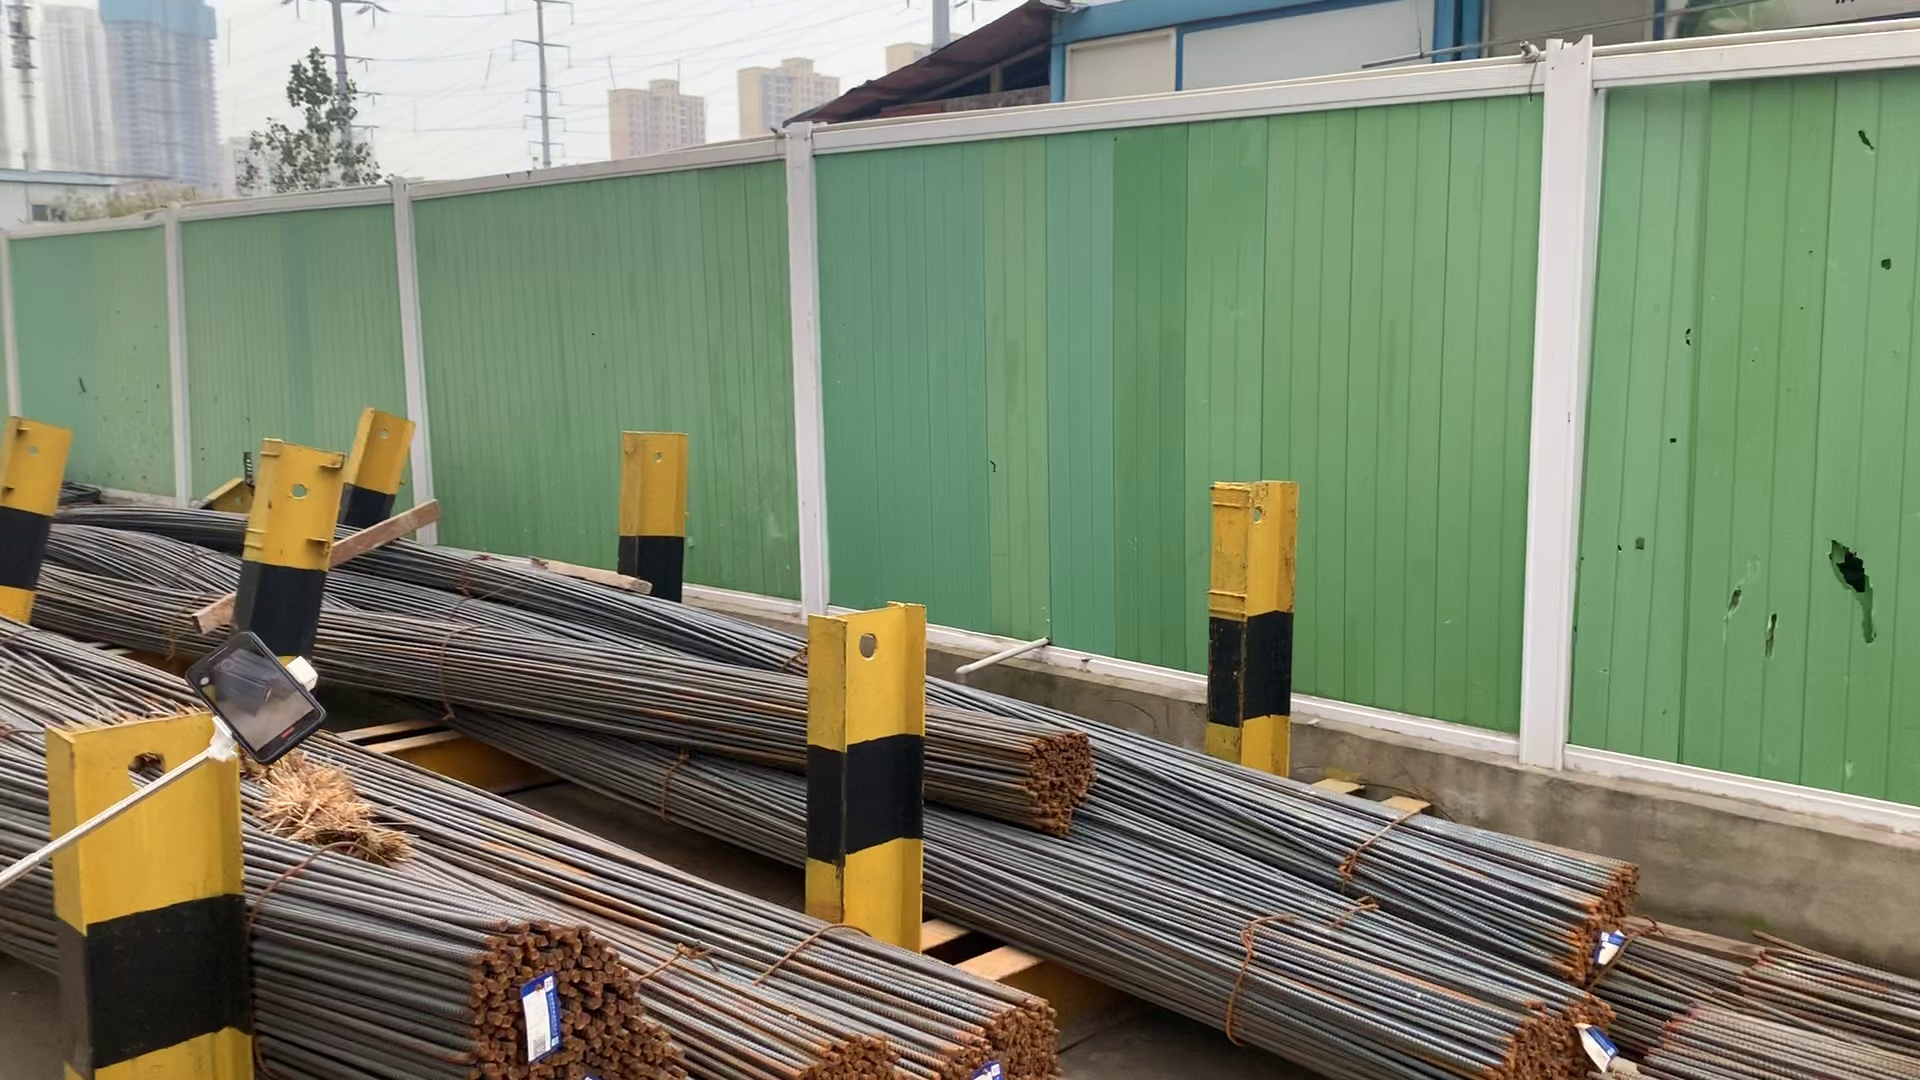rebar: (472, 913, 676, 1080), (1462, 989, 1629, 1080), (923, 993, 1071, 1080), (1549, 860, 1642, 976), (1015, 733, 1106, 831), (793, 1031, 903, 1080)
